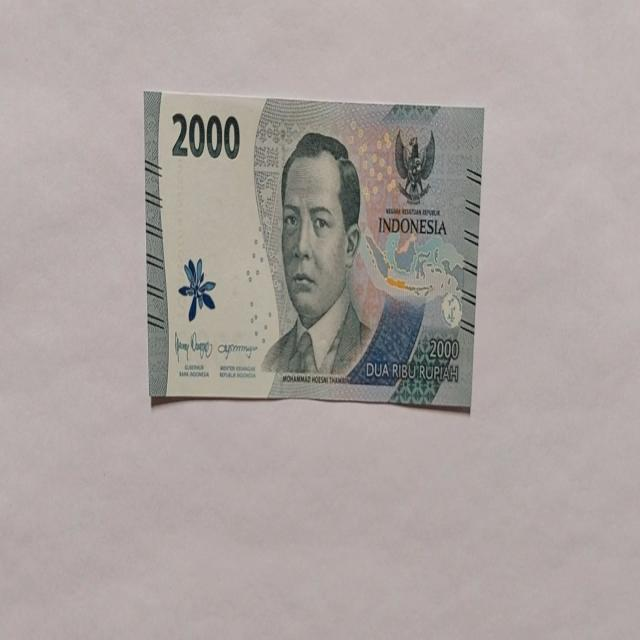dua ribu rupiah: (143, 89, 484, 410), (260, 130, 374, 384)
